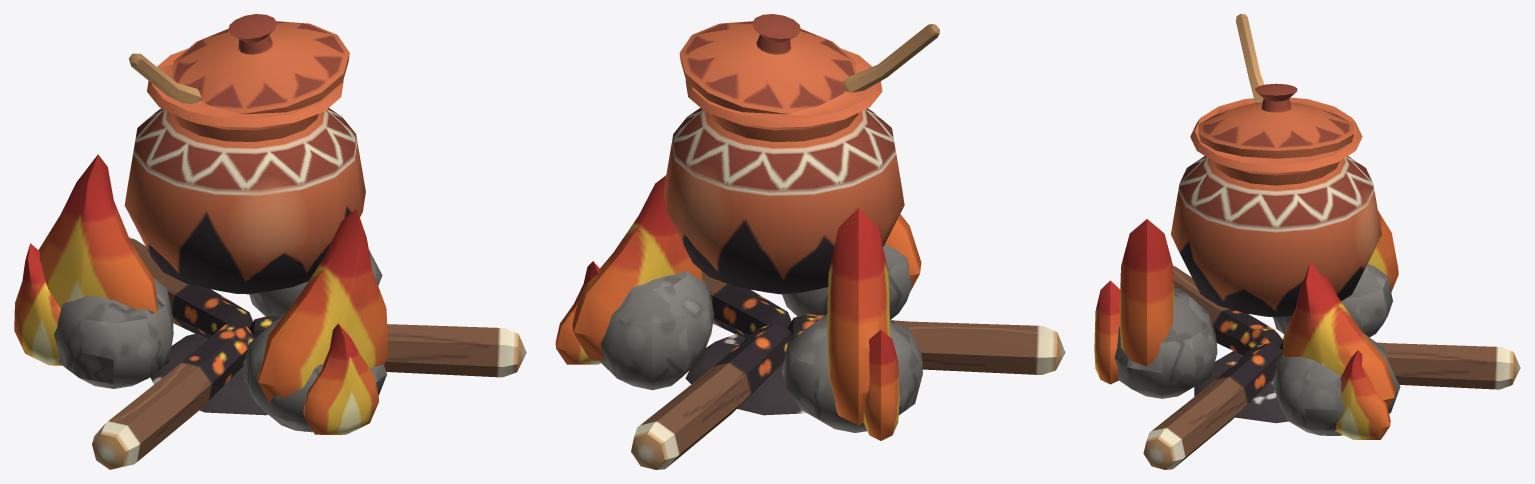
The model's file is hearth_pot.glb.
3 renders of one model, left to right at view 1: azimuth 30°, elevation 25°; view 2: azimuth 150°, elevation 25°; view 3: azimuth 270°, elevation 25°, orthographic. The views are drawn at different scales.
Visible parts, largest first — view 1: hearth_pot, hearth_pot__flame; view 2: hearth_pot, hearth_pot__flame; view 3: hearth_pot, hearth_pot__flame.
Part boxes in pixels (<box>): hearth_pot: <box>54,14,526,469</box>; hearth_pot__flame: <box>14,154,388,435</box>; hearth_pot: <box>599,14,1065,469</box>; hearth_pot__flame: <box>555,175,921,440</box>; hearth_pot: <box>1114,14,1520,469</box>; hearth_pot__flame: <box>1094,211,1398,439</box>.
Bounding box in the file's own units: 1.14 × 0.9371 × 1.14.
1 material, 1 textured.
